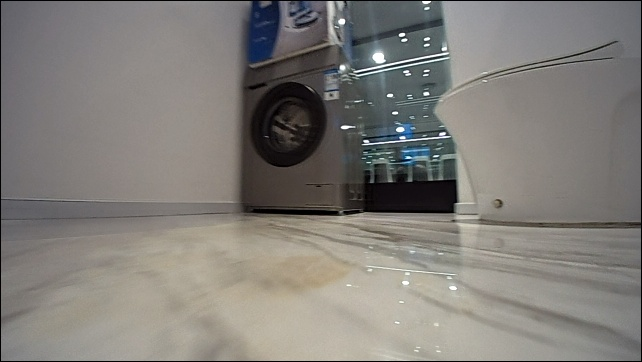toilet: (431, 38, 641, 229)
washing_machine: (238, 43, 367, 214)
